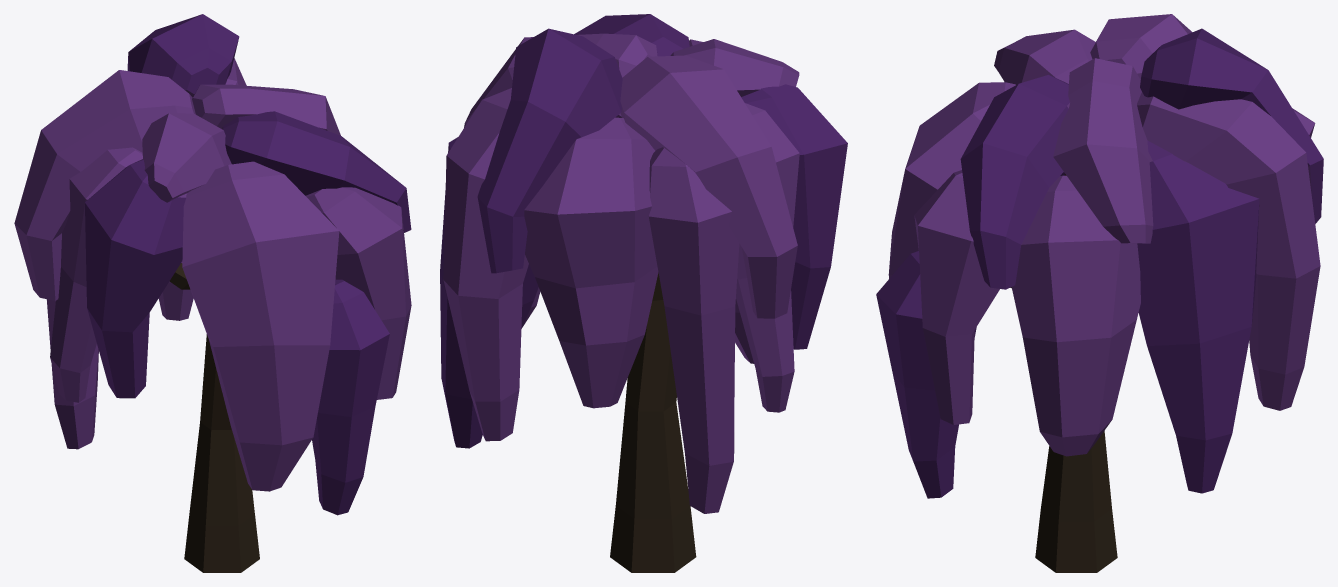
The model's file is 등나무.fbx.
The picture shows the model from 3 angles, left to right: view 1: azimuth 30°, elevation 25°; view 2: azimuth 150°, elevation 25°; view 3: azimuth 270°, elevation 25°; orthographic projection. The views are drawn at different scales.
Parts seen in each view (by area): view 1: Tree_Type6_03_mesh; view 2: Tree_Type6_03_mesh; view 3: Tree_Type6_03_mesh.
Boxes of the visible parts, x1,y1,x2,y2 form: Tree_Type6_03_mesh: (14, 14, 411, 572); Tree_Type6_03_mesh: (440, 14, 847, 572); Tree_Type6_03_mesh: (876, 14, 1323, 572).
Size of the model in its own units: 128 by 191 by 144.
